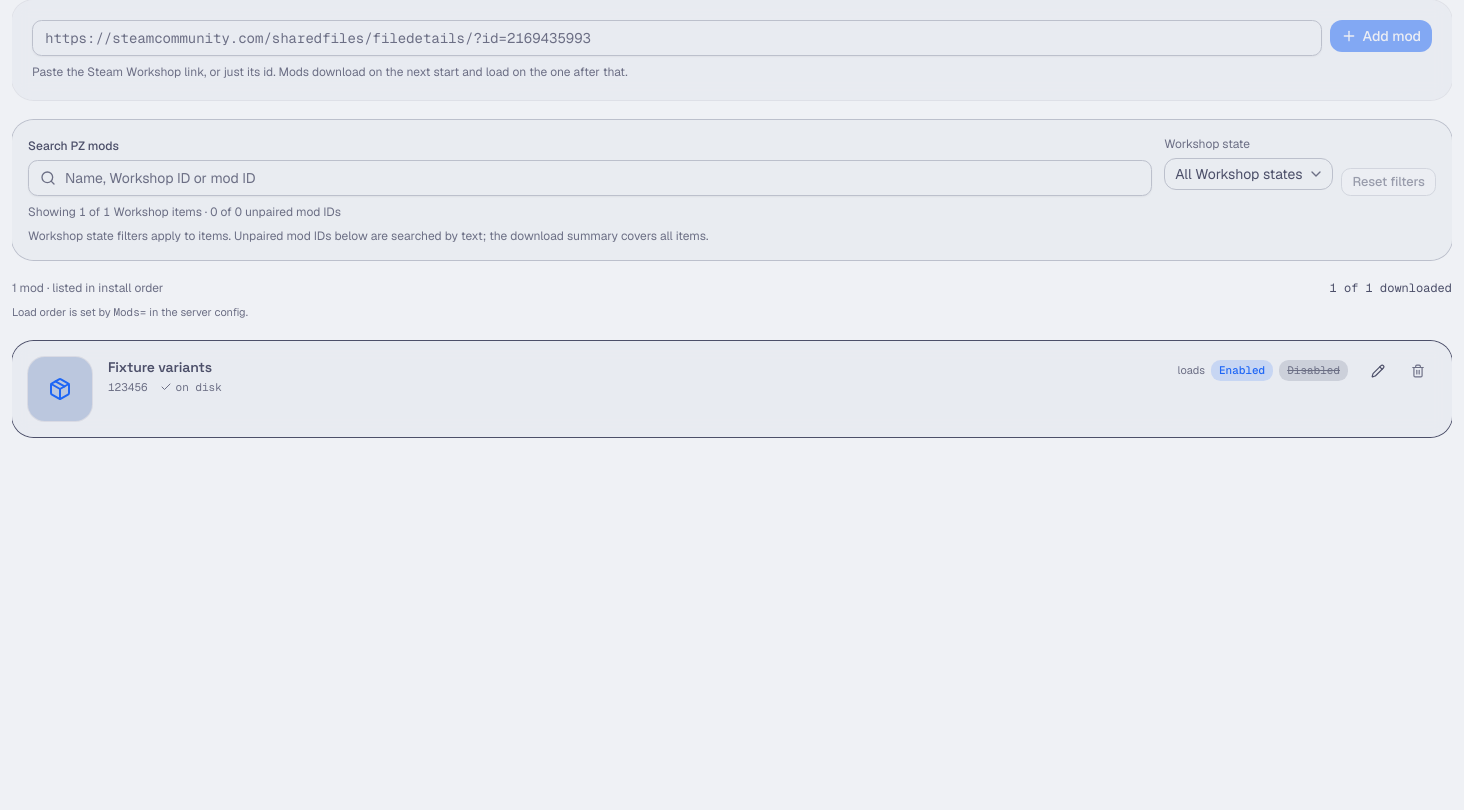
it: sends the PZ mod list INI revision for PATCH
Expected: the text "Fixture variants" is shown, left=108, top=356, right=222, bottom=376
Click the button titled "Edit mod ids": coordinates (1378, 370) left=1360, top=356, right=1396, bottom=384
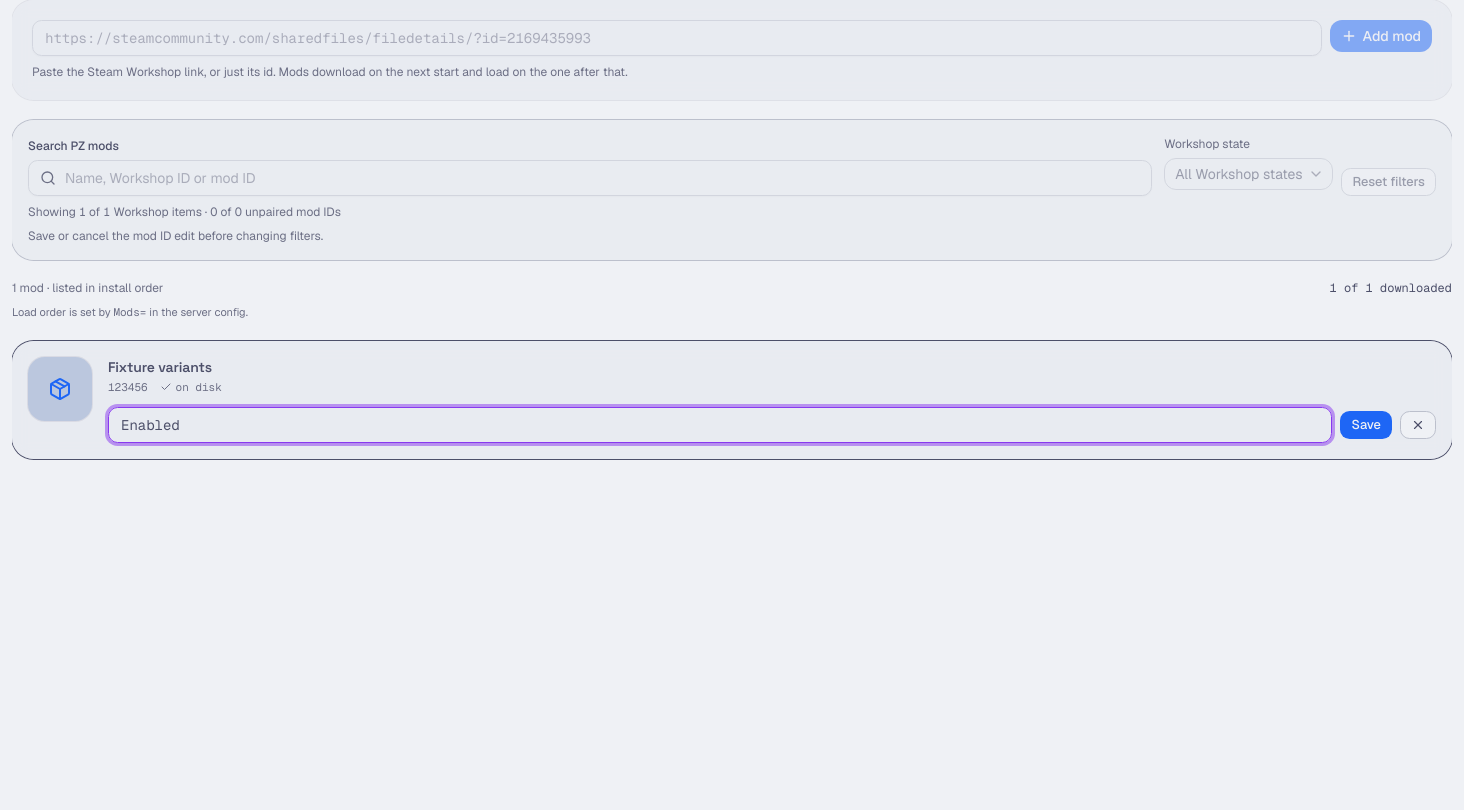
Click the button "Save": coordinates (1366, 425) left=1340, top=411, right=1392, bottom=439
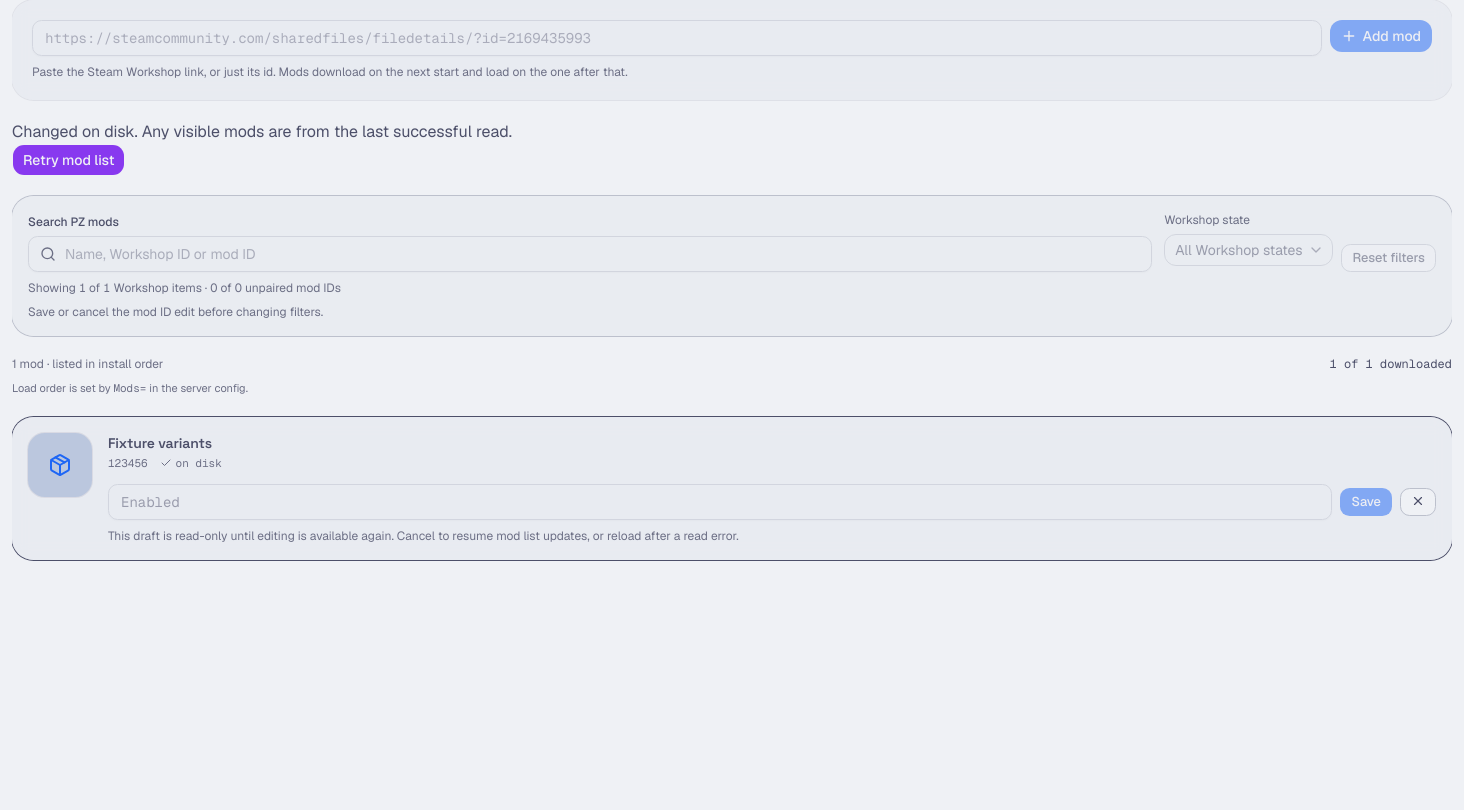
Result: the message that starts with "Changed on disk" is shown at left=12, top=121, right=512, bottom=176
